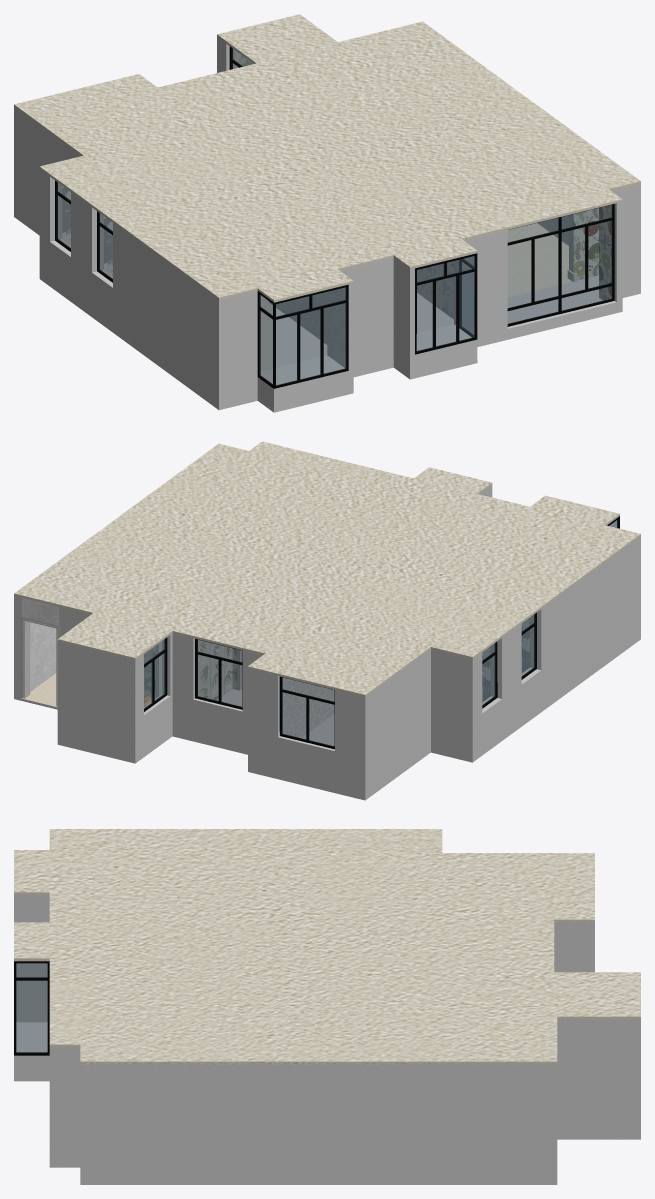
File: wall.FBX
3 renders of one model, top to bottom at view 1: azimuth 30°, elevation 25°; view 2: azimuth 150°, elevation 25°; view 3: azimuth 270°, elevation 25°, orthographic. The views are drawn at different scales.
Visible parts, largest first — view 1: ceiling_a, wall_a, glass_a, wall, window frame-a, floor_bedroom_001, floor_livingroom_01, ceiling_a001; view 2: ceiling_a, wall_a, wall, glass_a, window frame-a, ceiling_a001, doorframe_small001, floor_bedroom_001, floor_livingroom_01; view 3: ceiling_a, wall_a, glass_a, ceiling_a001, window frame-a.
Part boxes in pixels (x1,y1,x2,y2): ceiling_a: (14,14,640,302); wall_a: (14,37,640,410); glass_a: (57,48,611,385); wall: (62,50,611,367); window frame-a: (55,46,614,388); floor_bedroom_001: (260,275,602,371); floor_livingroom_01: (507,223,571,297); ceiling_a001: (14,214,640,412); ceiling_a: (14,441,640,697); wall_a: (14,485,640,797); wall: (21,598,529,737); glass_a: (144,520,617,746); window frame-a: (144,516,619,749); ceiling_a001: (14,637,640,800); doorframe_small001: (21,617,59,706); floor_bedroom_001: (217,689,334,745); floor_livingroom_01: (22,673,242,707); ceiling_a: (14,829,640,1064); wall_a: (14,895,640,1181); glass_a: (16,963,47,1052); ceiling_a001: (14,1078,640,1184); window frame-a: (14,961,49,1055).
Size of the model in its own units: 1121 by 276 by 1276.
